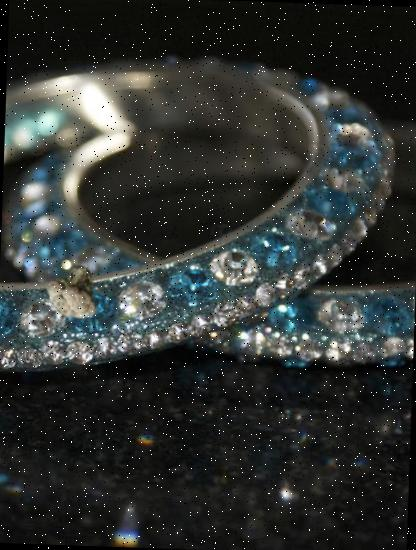Cauliflower: (44, 262, 102, 319)
